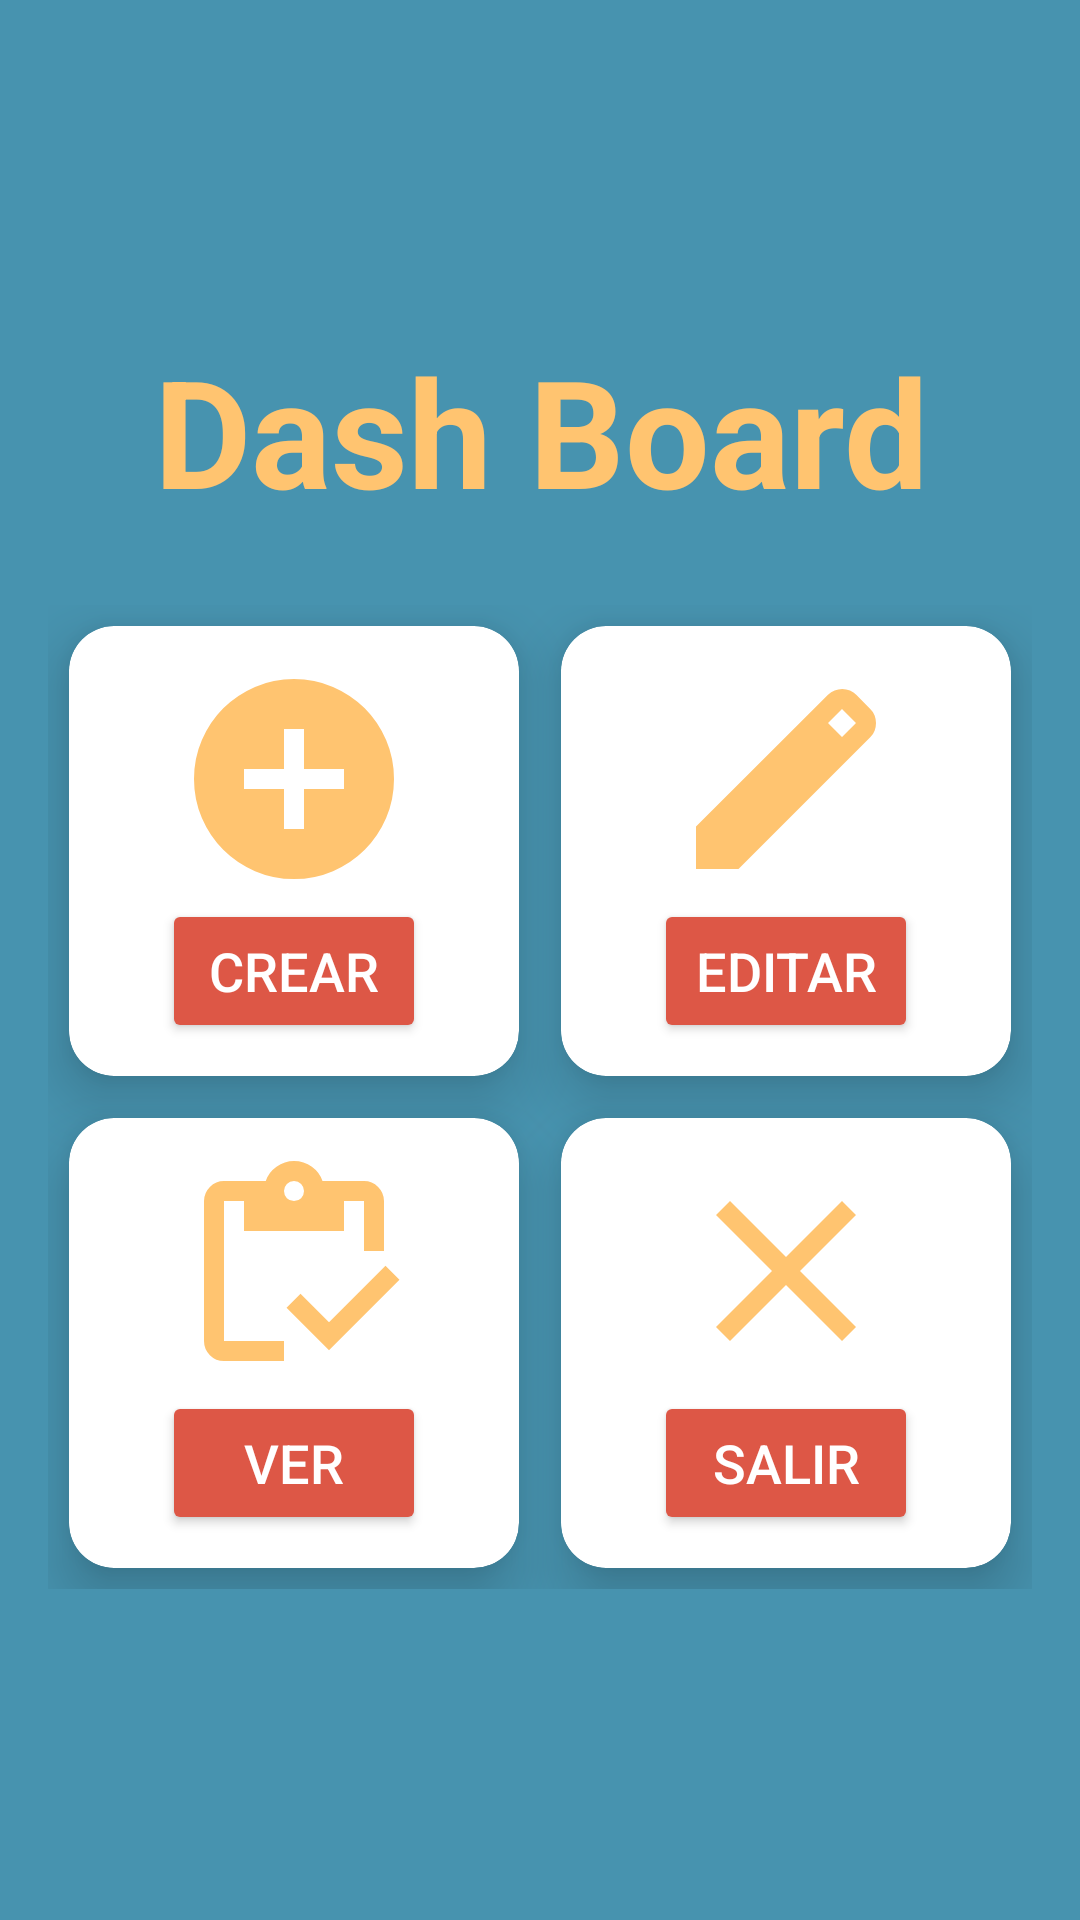

Where icons sit on this 1080px x 1920px app screen, as (left=x1, top=y1, right=x2, bottom=y2):
add circle: (left=194, top=679, right=394, bottom=879)
close: (left=716, top=1201, right=856, bottom=1341)
inventory: (left=204, top=1161, right=400, bottom=1361)
